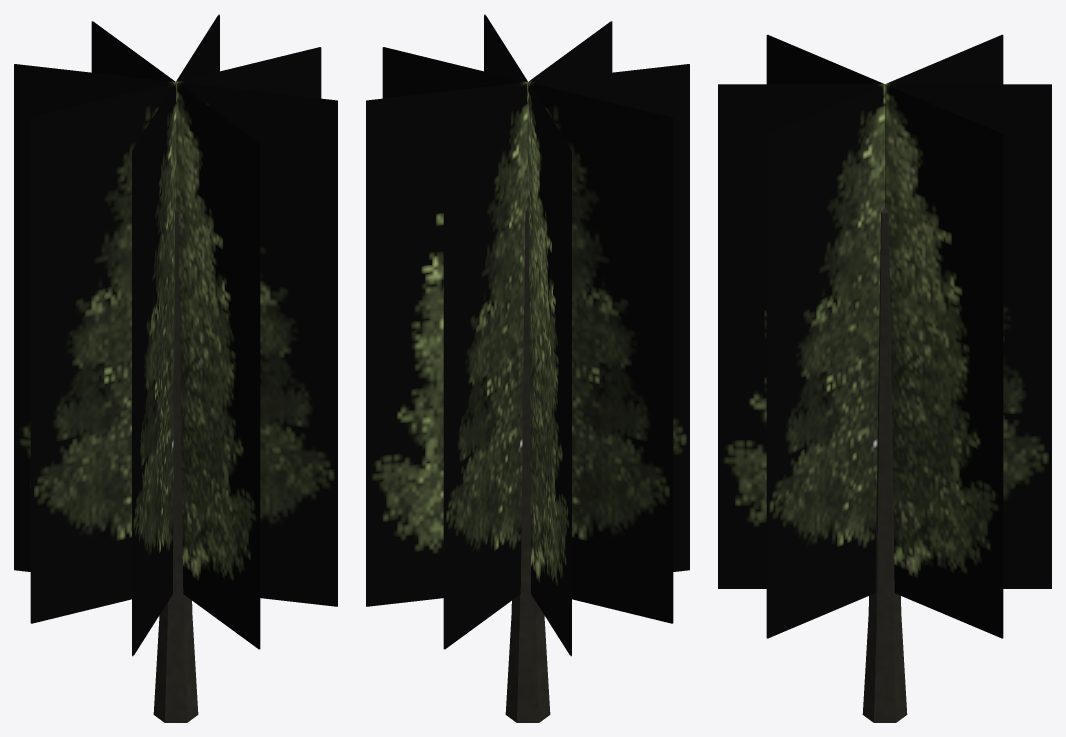
The model's file is questionable.glb.
The picture shows the model from 3 angles, left to right: view 1: azimuth 30°, elevation 25°; view 2: azimuth 150°, elevation 25°; view 3: azimuth 270°, elevation 25°; orthographic projection.
Parts seen in each view (by area): view 1: tree04; view 2: tree04; view 3: tree04.
Part boxes in pixels (box(x1,y1,x2,y2)): tree04: box(14, 14, 337, 722); tree04: box(366, 14, 689, 722); tree04: box(718, 34, 1051, 722).
Size of the model in its own units: 6 by 12.5 by 6.
Materials: 1 (1 with a texture image).
